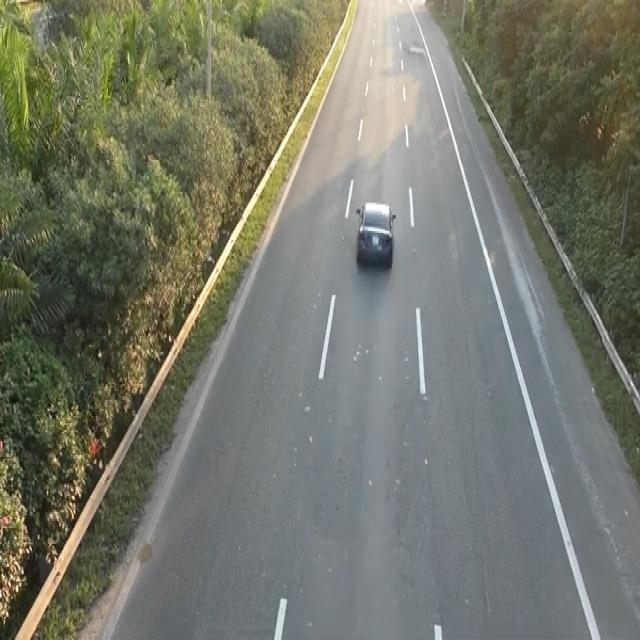bus: (353, 196, 397, 270)
